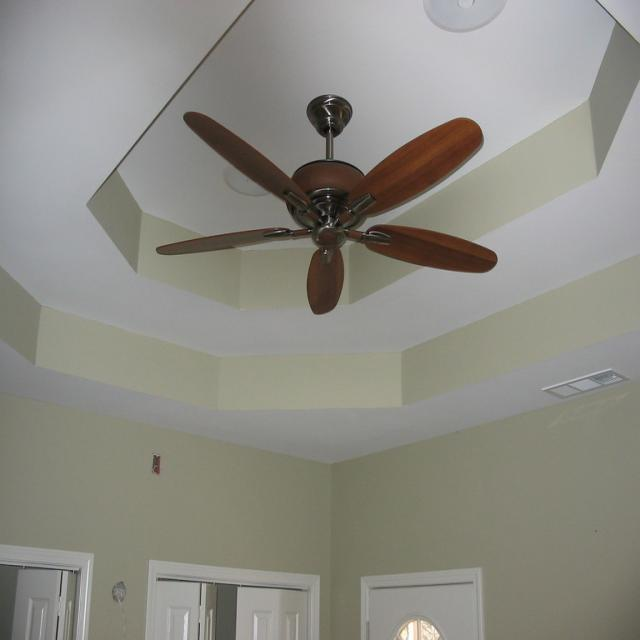fan_off: (152, 95, 501, 316)
